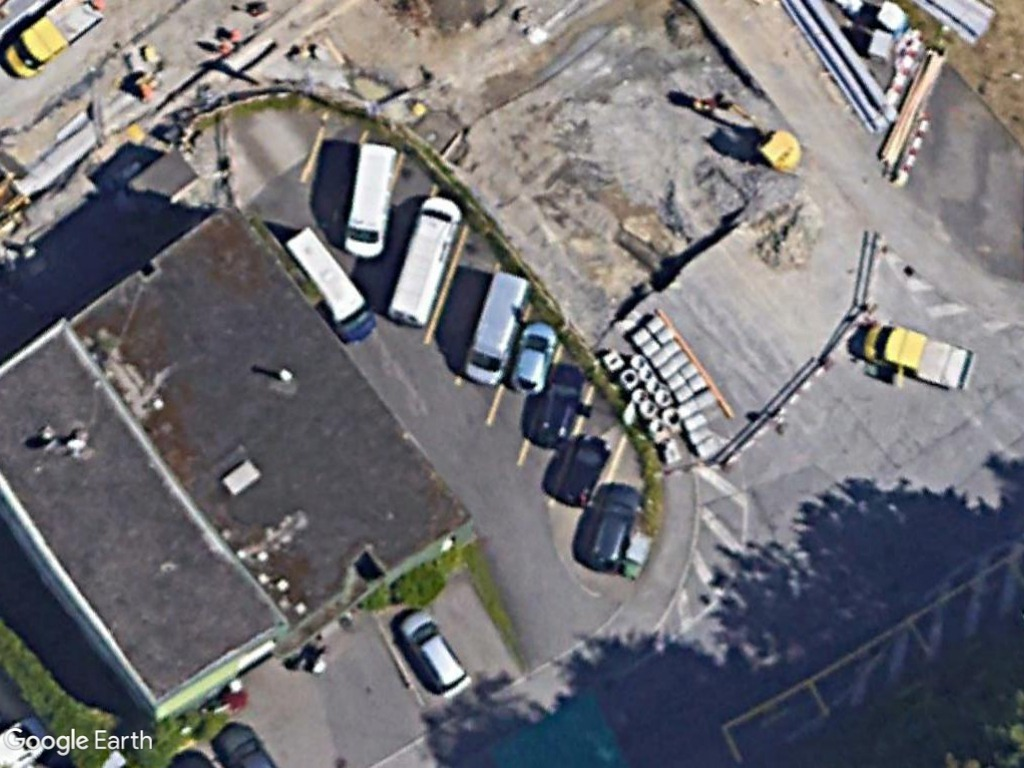car: (394, 607, 465, 694), (582, 483, 643, 572), (510, 321, 560, 397)
others: (859, 323, 979, 393)
van: (282, 223, 378, 349), (385, 190, 464, 332), (459, 271, 530, 388), (340, 140, 401, 259)
